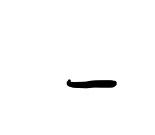minus: (64, 77, 121, 89)
